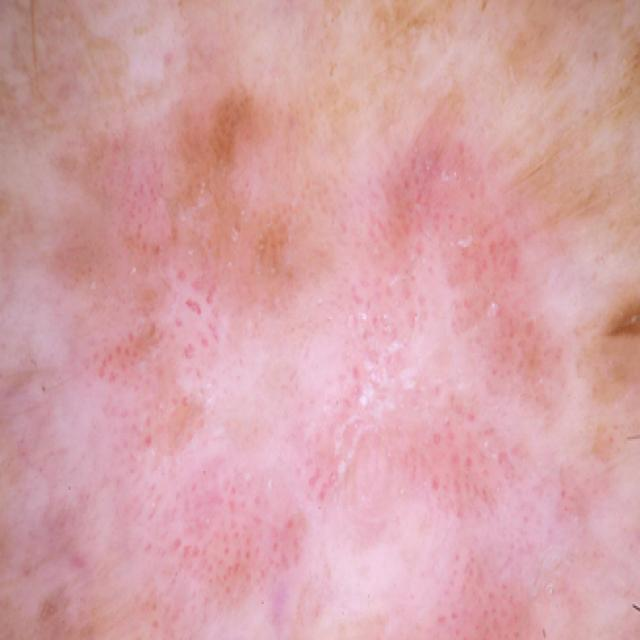Carcinoma: (9, 121, 567, 640)
